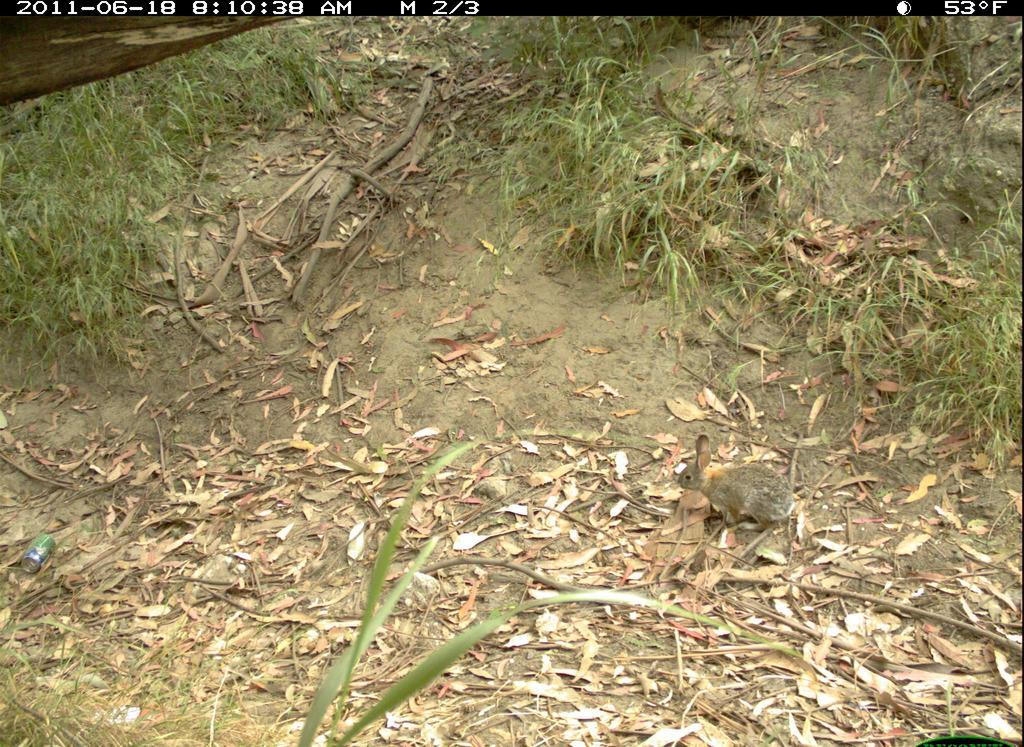rabbit: (665, 433, 803, 546)
